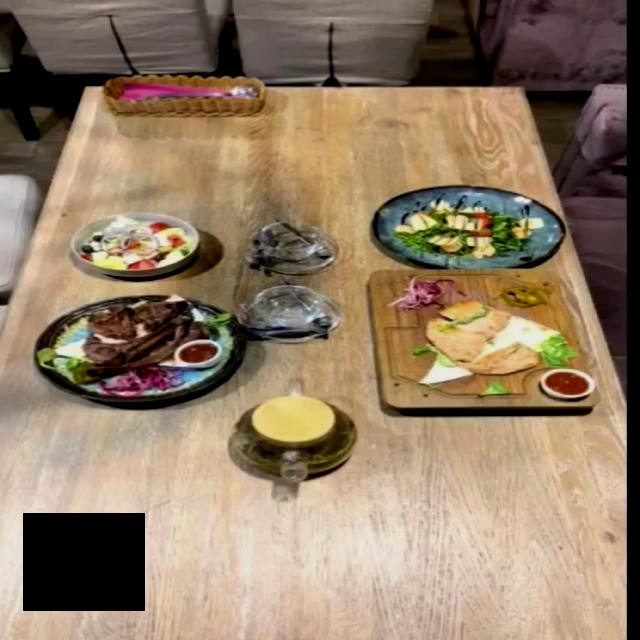meat: (368, 275, 590, 406), (32, 295, 248, 404)
salad: (375, 185, 567, 267), (68, 211, 202, 276)
tea: (223, 365, 368, 518)
